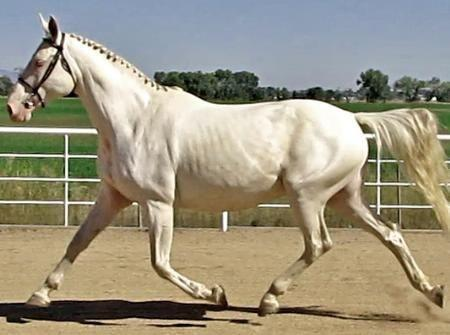horse: (6, 12, 449, 317)
